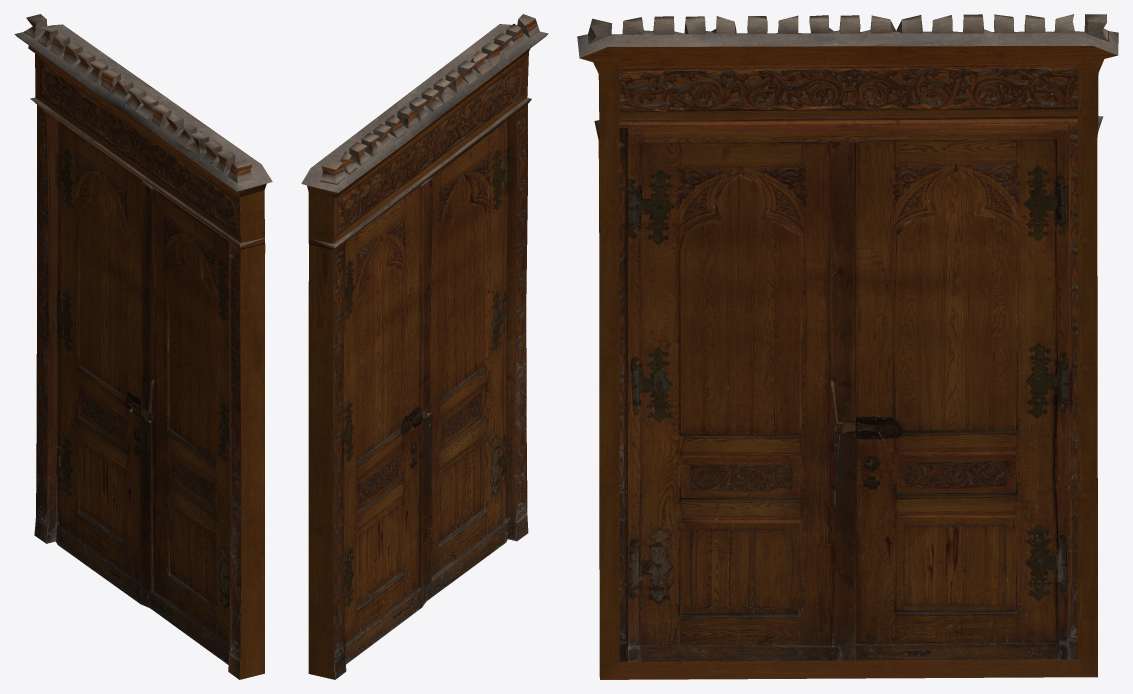
File: FancyDoor.fbx
3 renders of one model, left to right at view 1: azimuth 30°, elevation 25°; view 2: azimuth 150°, elevation 25°; view 3: azimuth 270°, elevation 25°, orthographic. The views are drawn at different scales.
Parts seen in each view (by area): view 1: FancyDoor; view 2: FancyDoor; view 3: FancyDoor.
Part boxes in pixels (x1,y1,x2,y2): FancyDoor: [14, 14, 272, 679]; FancyDoor: [301, 14, 548, 679]; FancyDoor: [577, 14, 1118, 679].
Bounding box in the file's own units: 49.75 × 572 × 435.
